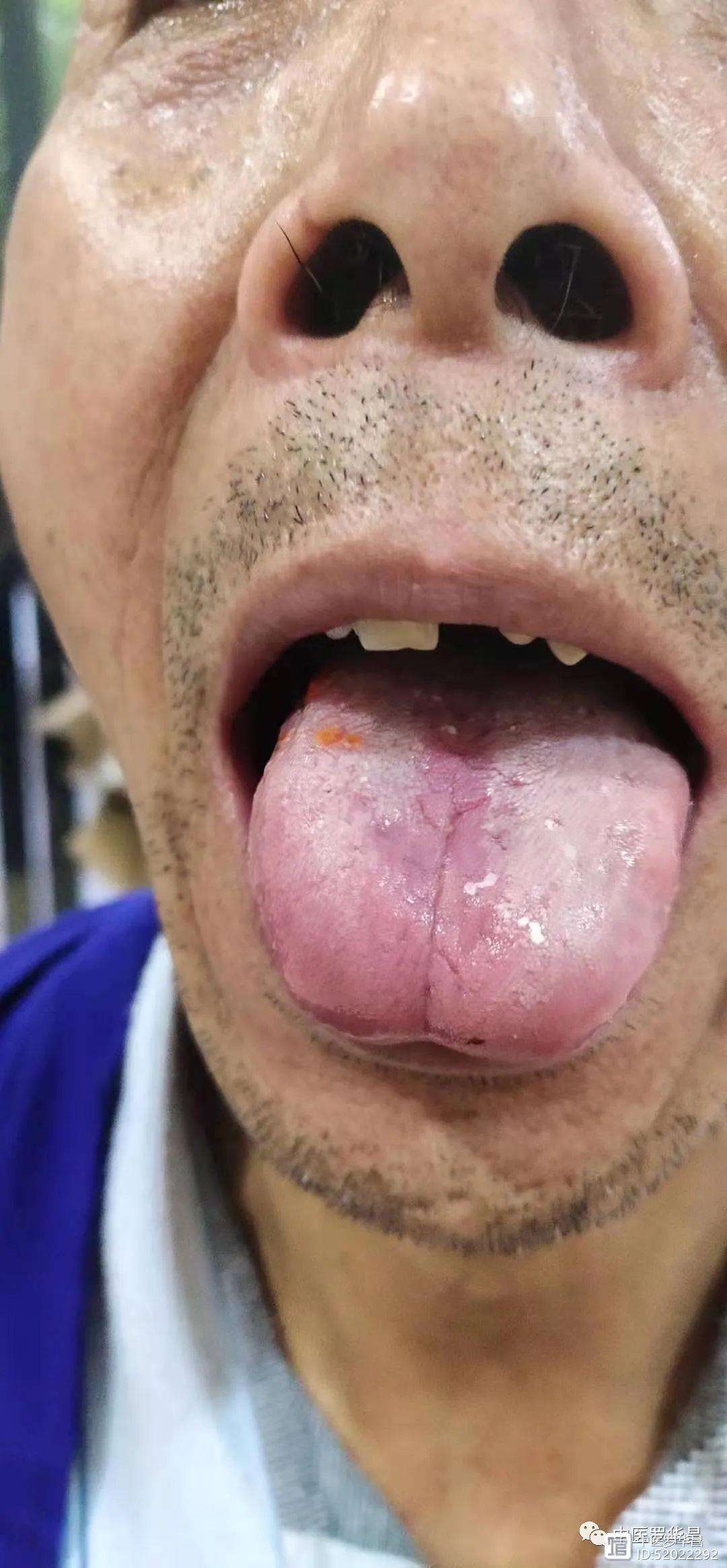baitaishe: (248, 660, 690, 1053)
botaishe: (380, 677, 510, 968)
liewenshe: (405, 784, 495, 1032)
